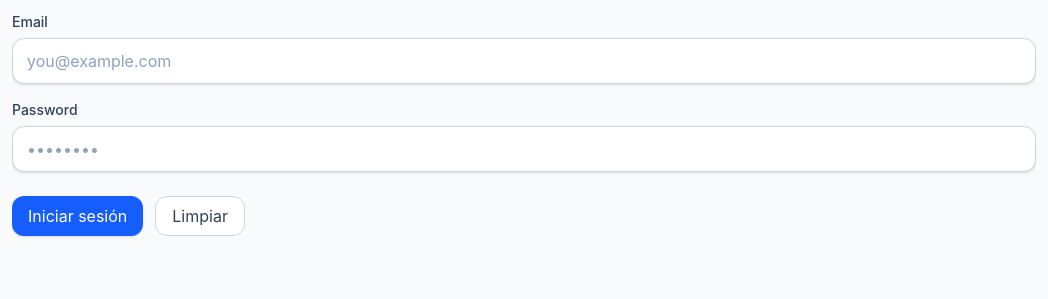
SignIn › shows validation errors on empty submit
Click the button "Iniciar sesión".
click(78, 216)  # box [12,196,143,236]
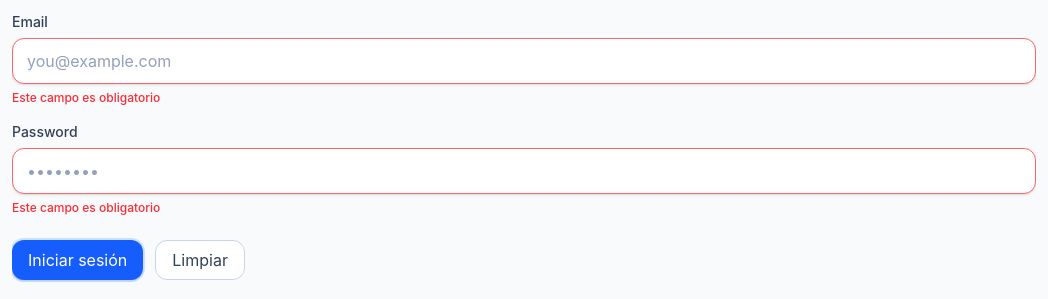
Expected: the text "Este campo es obligatorio" is shown 2 times, [12,90,160,105]; [12,200,160,215]
